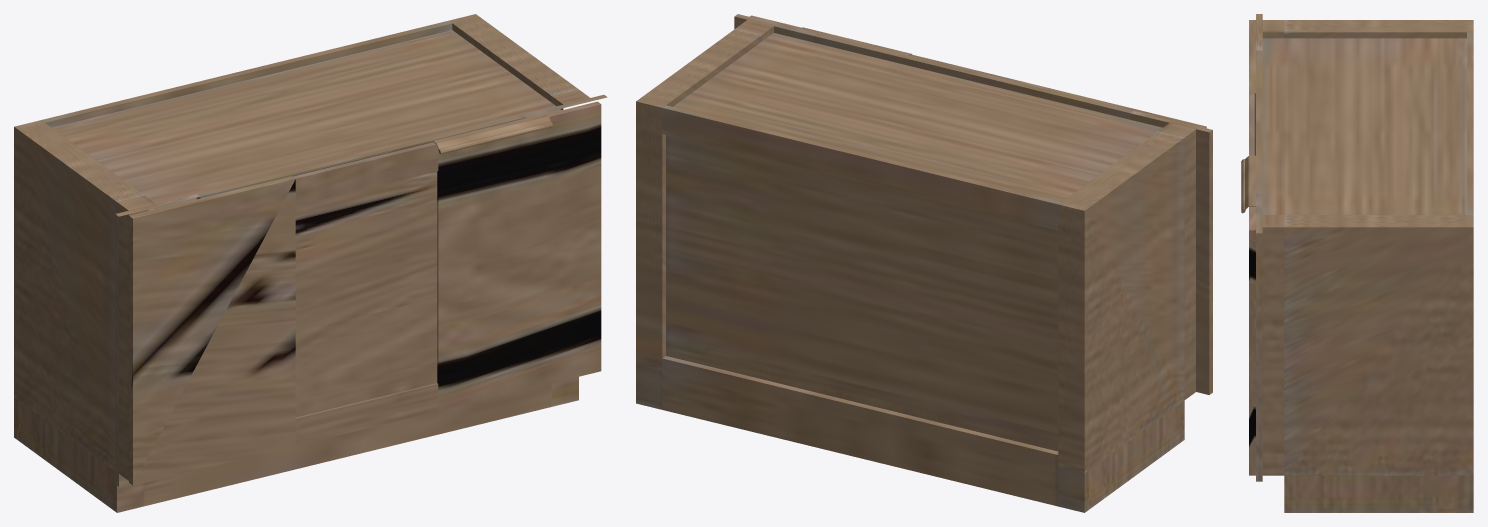
Rendered from table_0.glb.
3 renders of one model, left to right at view 1: azimuth 30°, elevation 25°; view 2: azimuth 150°, elevation 25°; view 3: azimuth 270°, elevation 25°, orthographic. The views are drawn at different scales.
Visible parts, largest first — view 1: table_0; view 2: table_0; view 3: table_0.
Part boxes in pixels (<box>): table_0: <box>14,14,607,512</box>; table_0: <box>636,14,1212,512</box>; table_0: <box>1241,14,1473,512</box>.
Size of the model in its own units: 0.82 by 0.4983 by 0.3671.
Materials: 1 (1 with a texture image).
